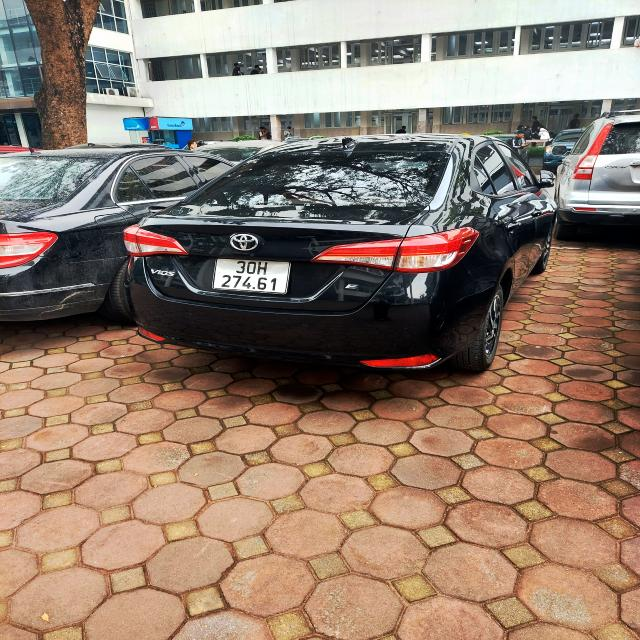license_plate: (213, 259, 292, 295)
